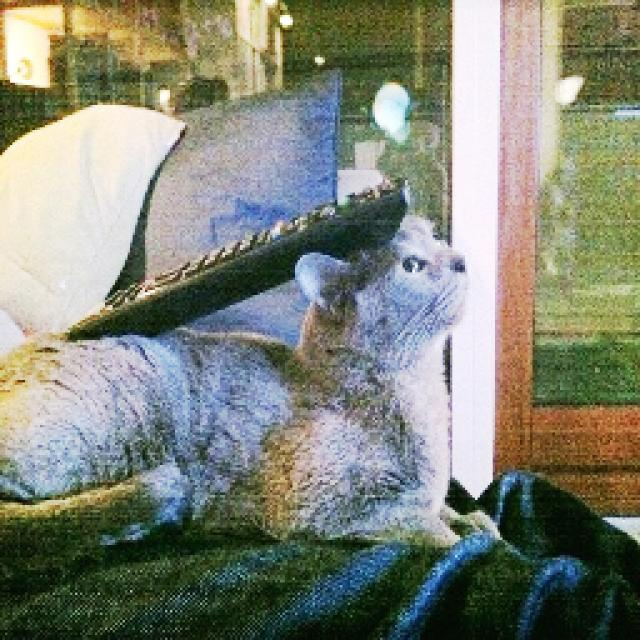cat: (0, 165, 545, 599)
